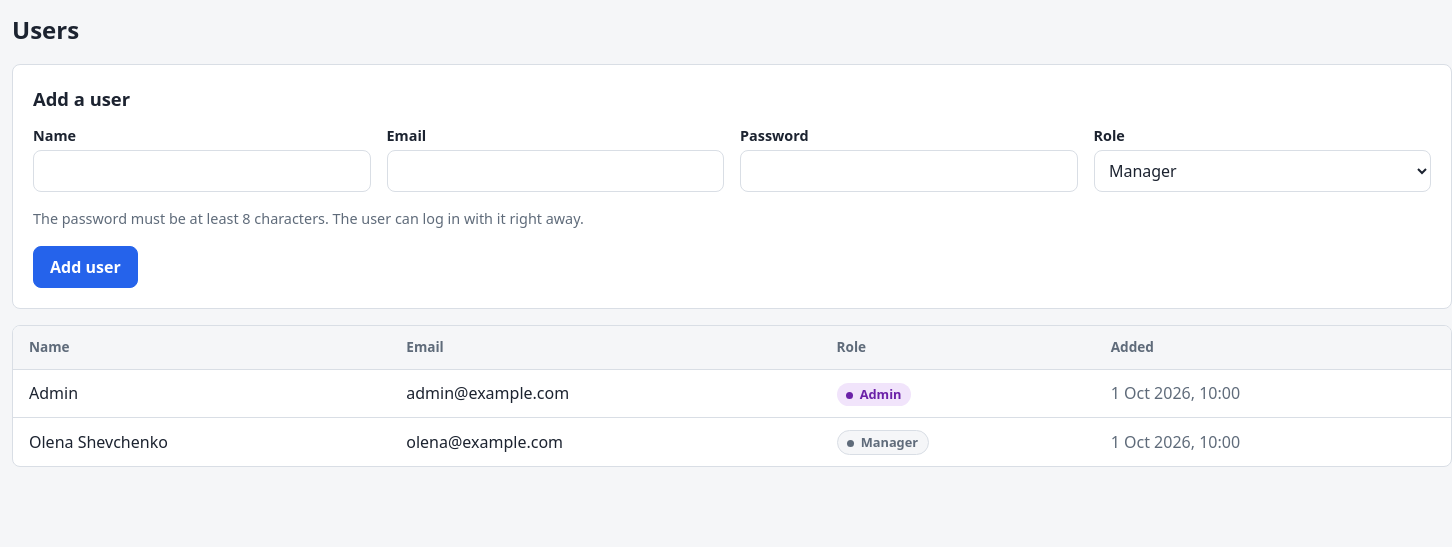
UsersPage › shows the API error when the email is already taken
Expected: the text "Olena Shevchenko" is shown, [13,417,390,466]
Type "Olena Again" into the field labelled "Name". click: (202, 171)
box: [33,150,370,192]
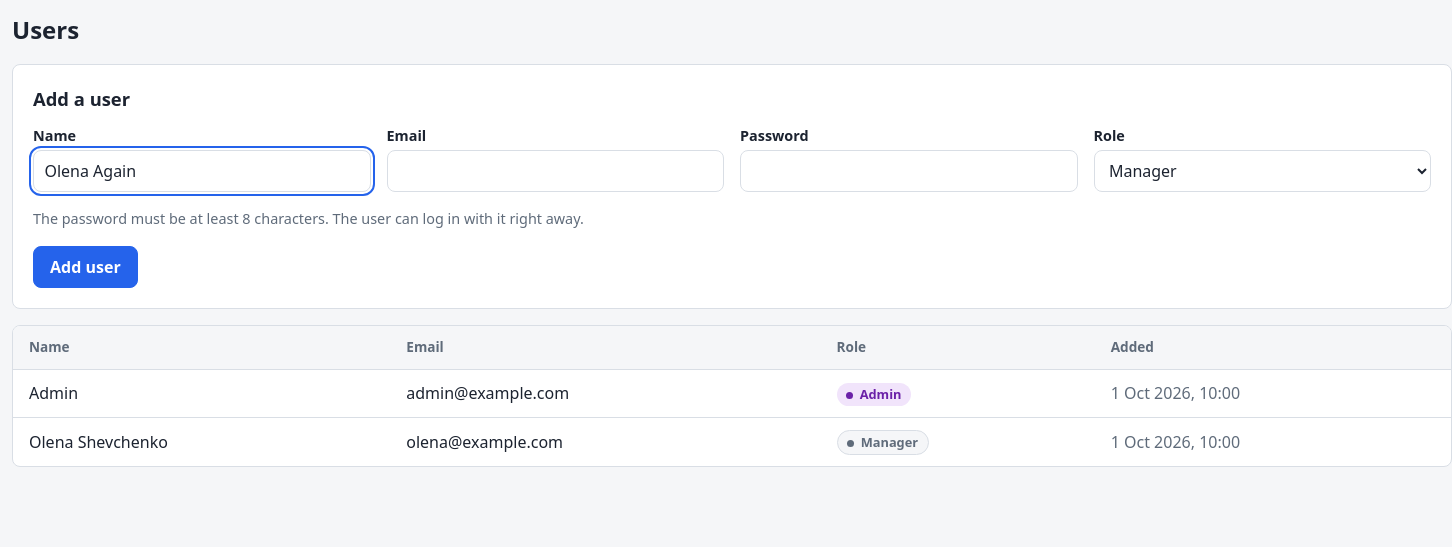
Type "olena@example.com" into the field labelled "Email". click: (555, 171)
box: [386,150,724,192]
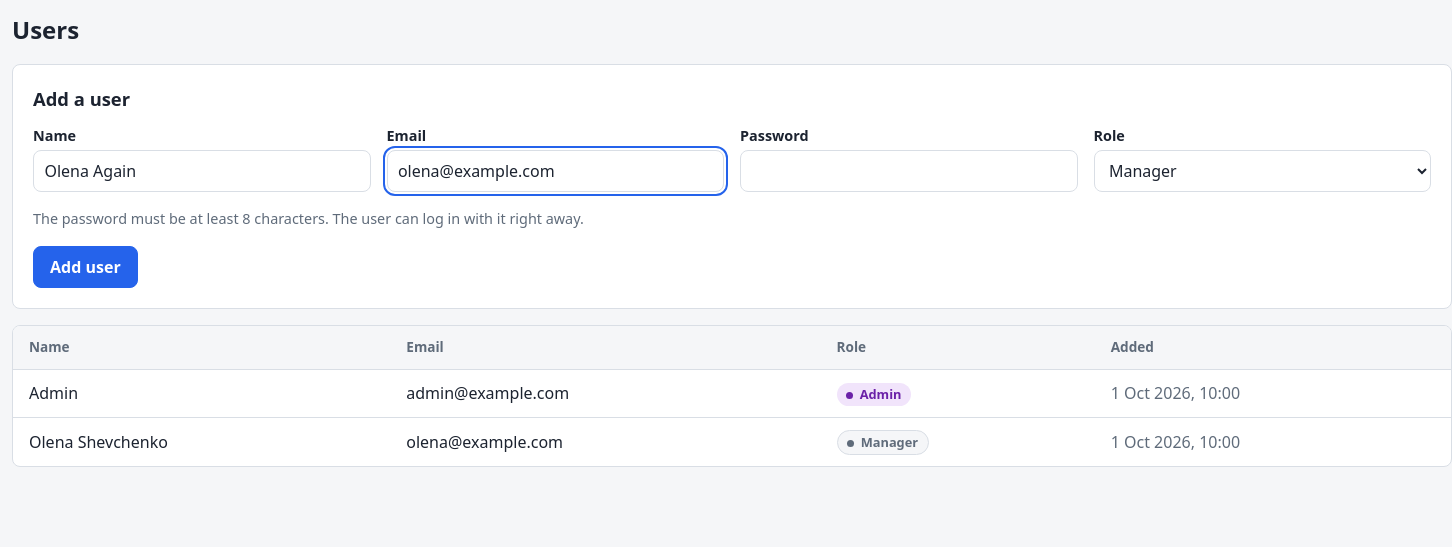
Type "long-enough-pass" into the password field labelled "Password". click: (909, 171)
box: [740,150,1078,192]
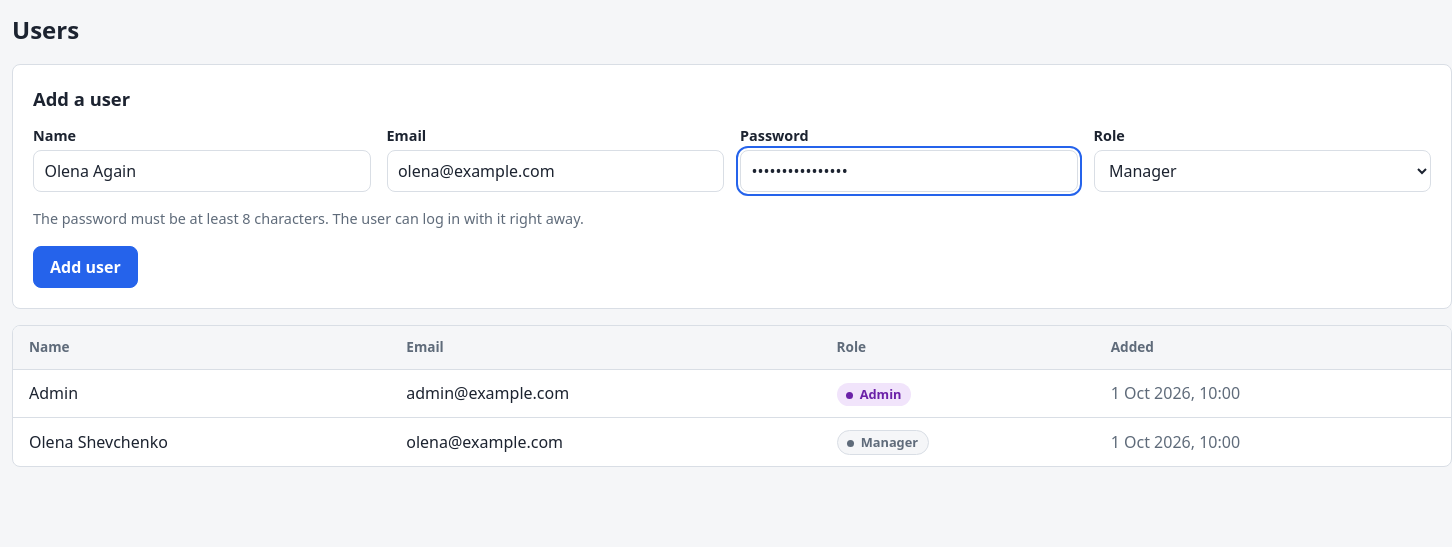
Click the button "Add user". click: click(85, 267)
box: [33,246,138,288]
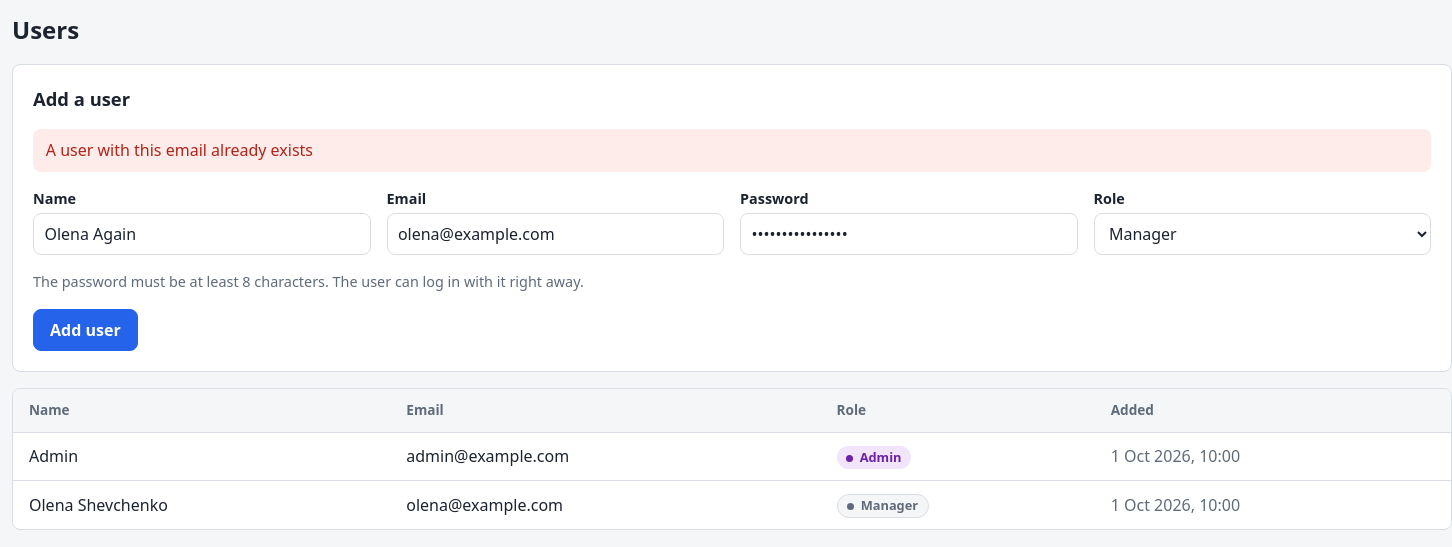
Expected: the message reads "A user with this email already exists", [46,139,313,161]
